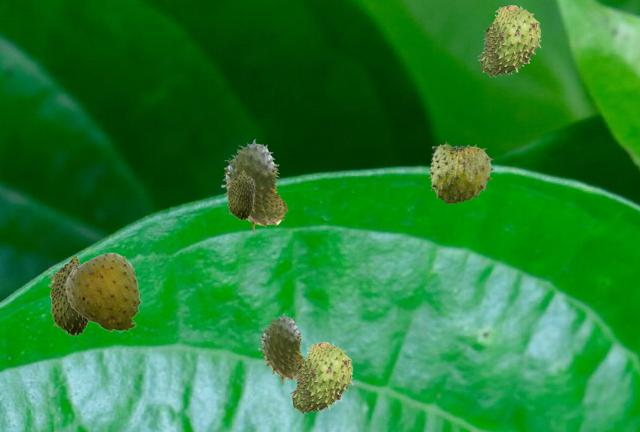guyabano: (221, 139, 287, 232), (64, 252, 140, 332), (289, 342, 352, 413), (477, 5, 540, 76), (428, 141, 493, 203), (258, 313, 304, 384), (48, 255, 88, 335), (226, 170, 255, 219)
